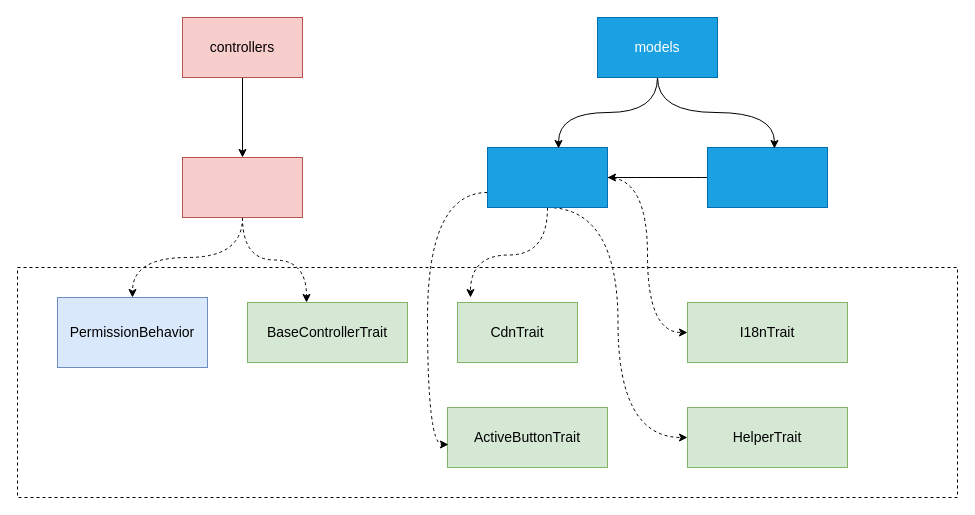
This 975x515 diagram has some shape labels left out. Here are the shapes that lost their labels. From the top down, the centre of each, then its label:
(x=242, y=187): BaseController
(x=547, y=177): BaseModel
(x=767, y=177): BaseBiz
